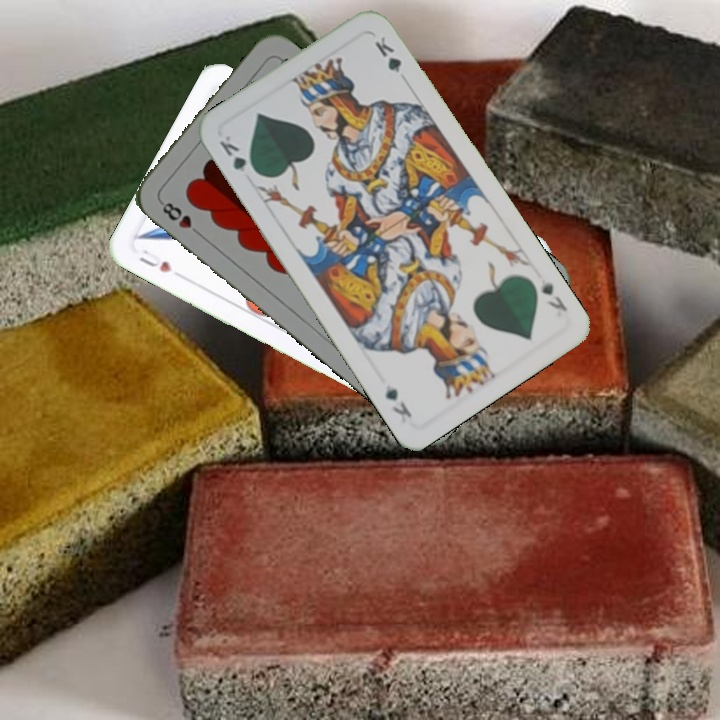GK: (215, 131, 261, 178), (537, 277, 570, 320)
H8: (156, 197, 205, 240)
HU: (134, 245, 175, 275)
